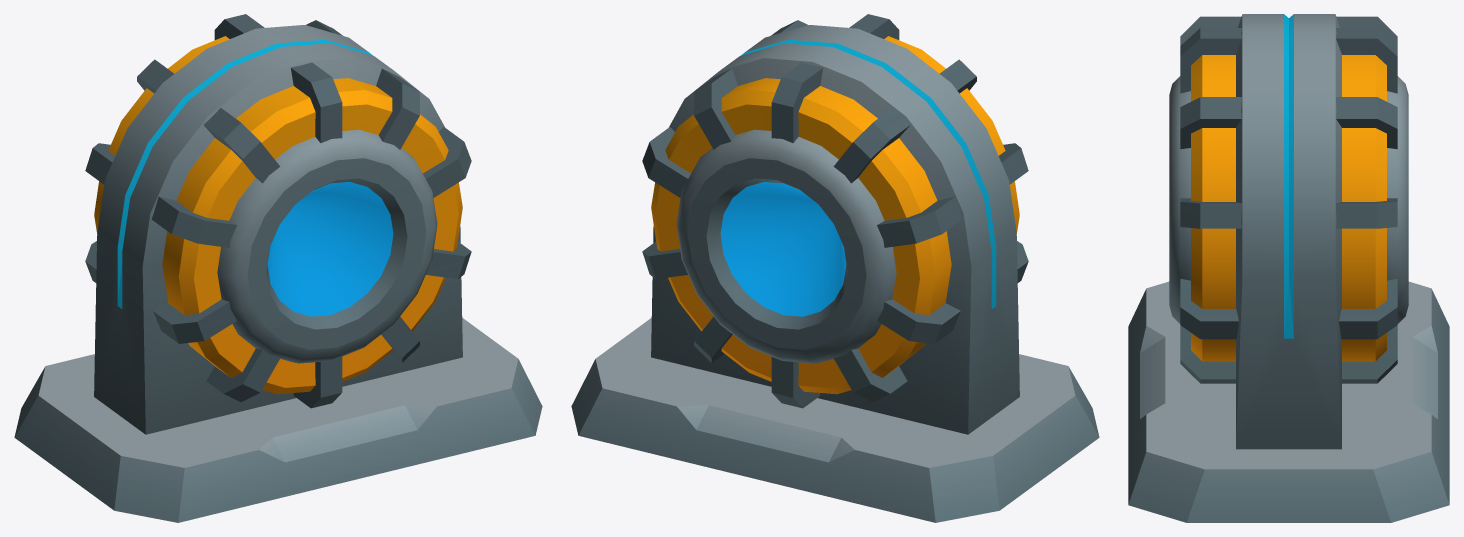
Rendered from Generator_003.glb.
3 views of the same model, side by side, from view 1: azimuth 30°, elevation 25°; view 2: azimuth 150°, elevation 25°; view 3: azimuth 270°, elevation 25° (orthographic). The views are drawn at different scales.
Parts seen in each view (by area): view 1: Generator_003; view 2: Generator_003; view 3: Generator_003.
Part boxes in pixels (x1,y1,x2,y2): Generator_003: [14, 14, 542, 522]; Generator_003: [571, 14, 1099, 522]; Generator_003: [1128, 14, 1449, 522].
Size of the model in its own units: 2.07 by 1.74 by 1.31.
2 materials, 2 textured.
